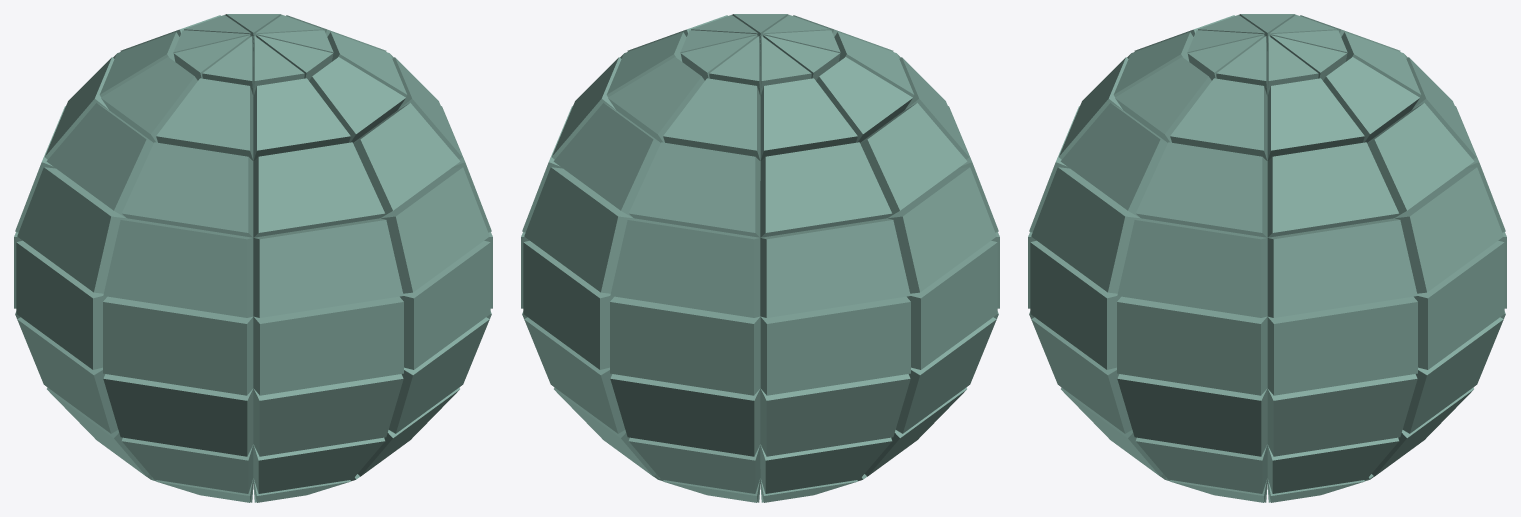
File: water_boll.fbx
3 views of the same model, side by side, from view 1: azimuth 30°, elevation 25°; view 2: azimuth 150°, elevation 25°; view 3: azimuth 270°, elevation 25° (orthographic).
Visible parts, largest first — view 1: pSphere1; view 2: pSphere1; view 3: pSphere1.
Part boxes in pixels (x1=…): pSphere1: x1=14, y1=14, x2=492, y2=502; pSphere1: x1=521, y1=14, x2=999, y2=502; pSphere1: x1=1028, y1=14, x2=1506, y2=502.
Bounding box in the file's own units: 125 × 130 × 127.
